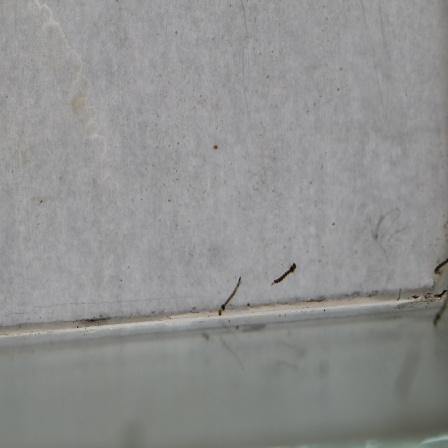Jentik-Nyamuk: (215, 274, 245, 317), (269, 261, 299, 290)
